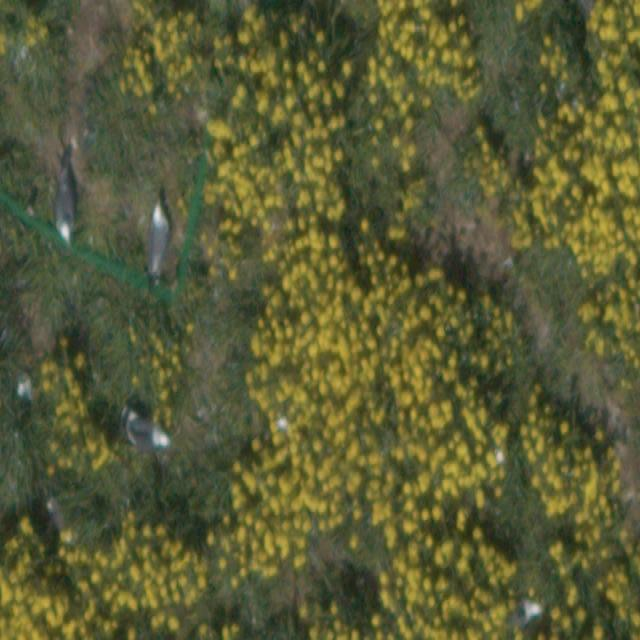umineko: (57, 157, 74, 246), (151, 212, 170, 266), (130, 422, 168, 448)
